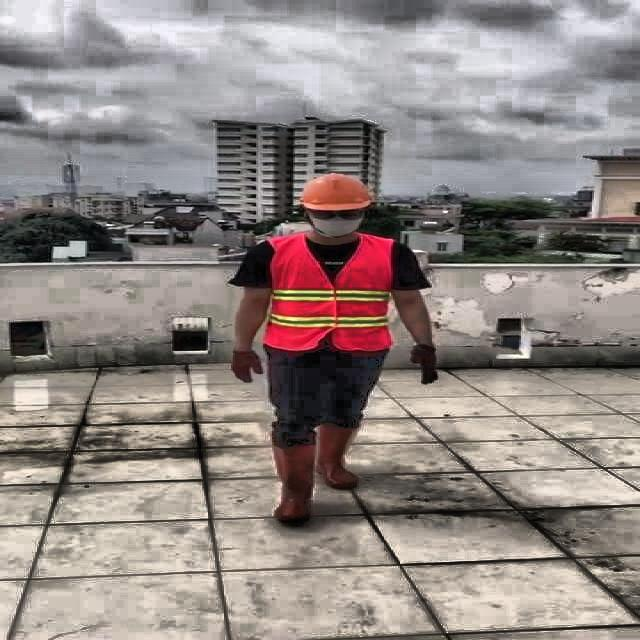safety_helmet: (300, 174, 374, 212)
safety_jacket: (265, 234, 393, 353)
